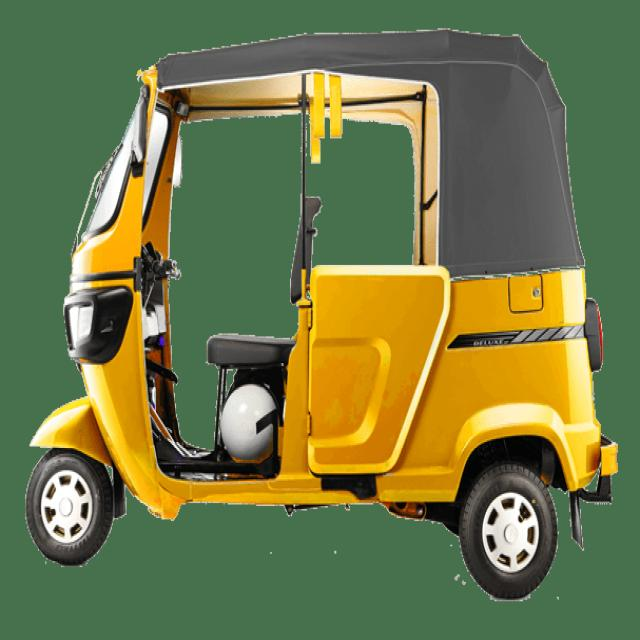autorickshaw: (26, 30, 619, 599)
